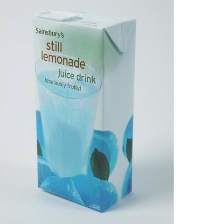carton: (25, 1, 140, 215)
